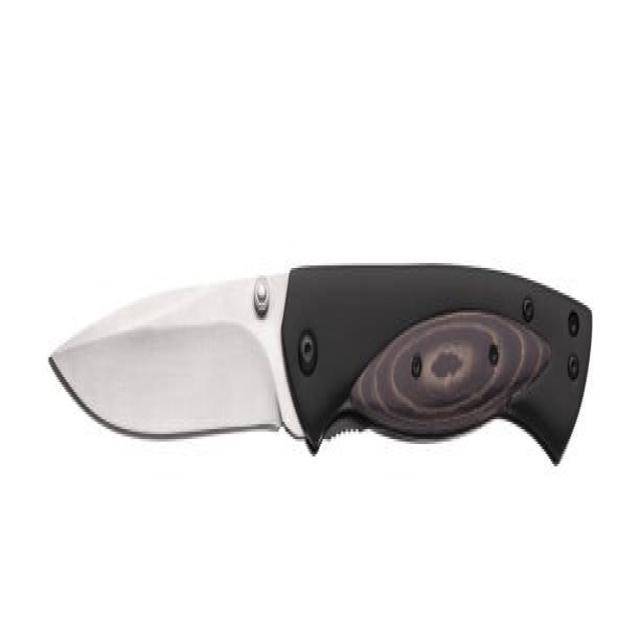knife: (47, 248, 599, 513)
